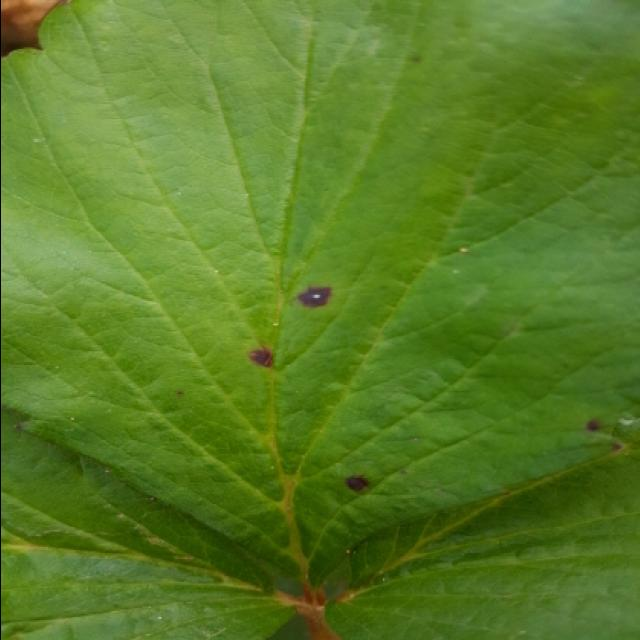Leaf Spot: (2, 0, 640, 599)
